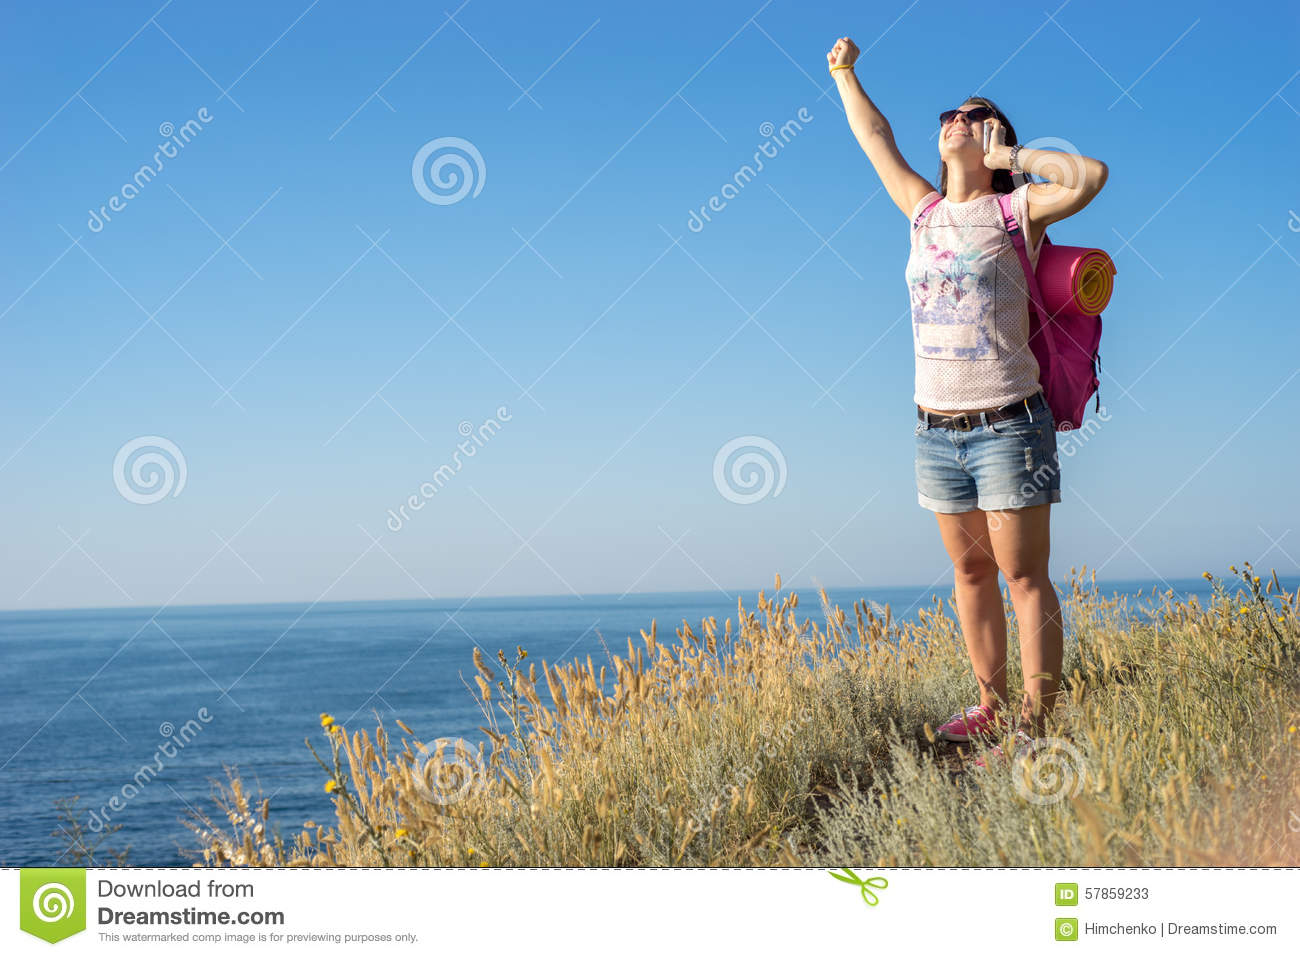phone: (980, 121, 1010, 153)
talk: (939, 106, 1012, 172)
